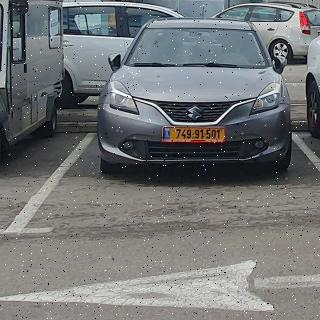LicensePlate: (171, 129, 224, 140)
